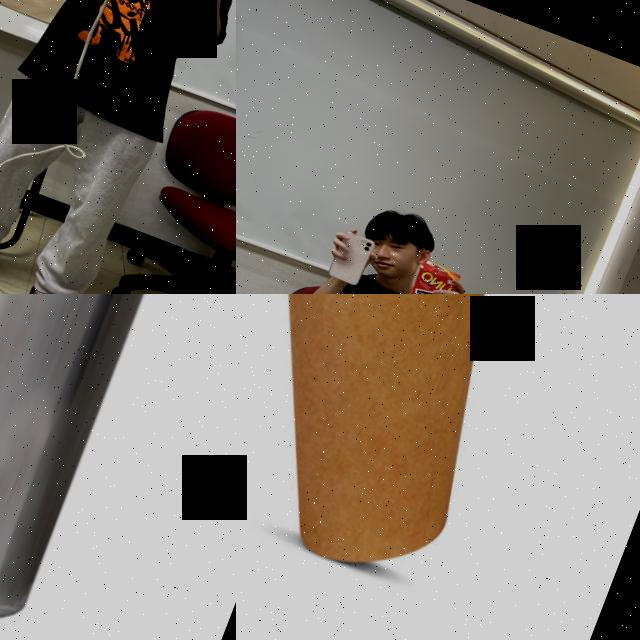can: (0, 294, 200, 640)
cup: (236, 294, 593, 599)
